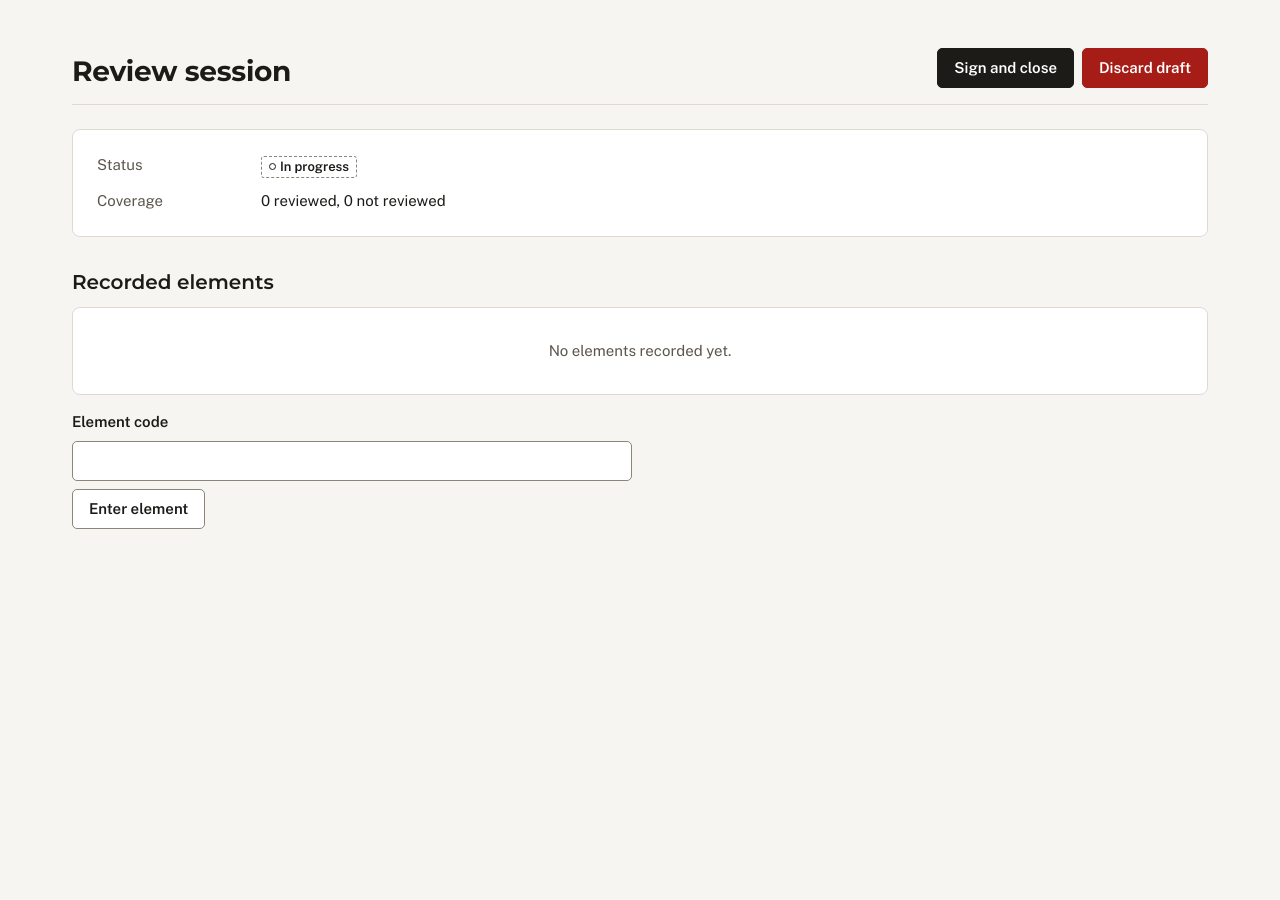
Test: ReviewSessionDetailPage › lists the offending element codes as links on UNREVIEWED_ELEMENTS_WITHOUT_REASON
This screenshot has width=1280, height=900.
What coordinates should you click on to do the following:
click the button with test id "review-session-detail-complete"
I would click on:
 (1006, 68)
Its box is [937,48,1074,88].
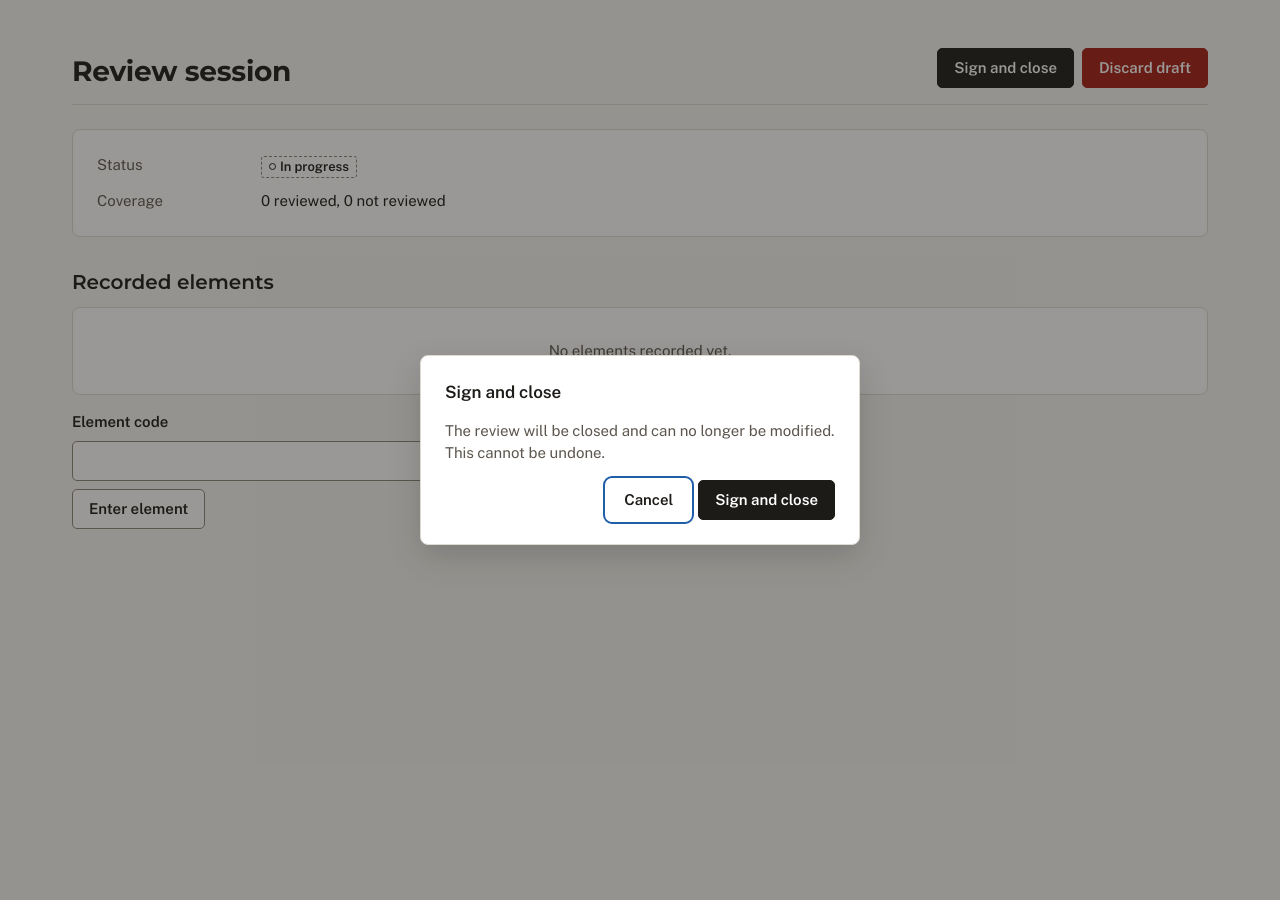
What coordinates should you click on to do the following:
click the button with test id "confirm-dialog-confirm"
I would click on:
 (767, 500)
Its box is [698,480,835,520].
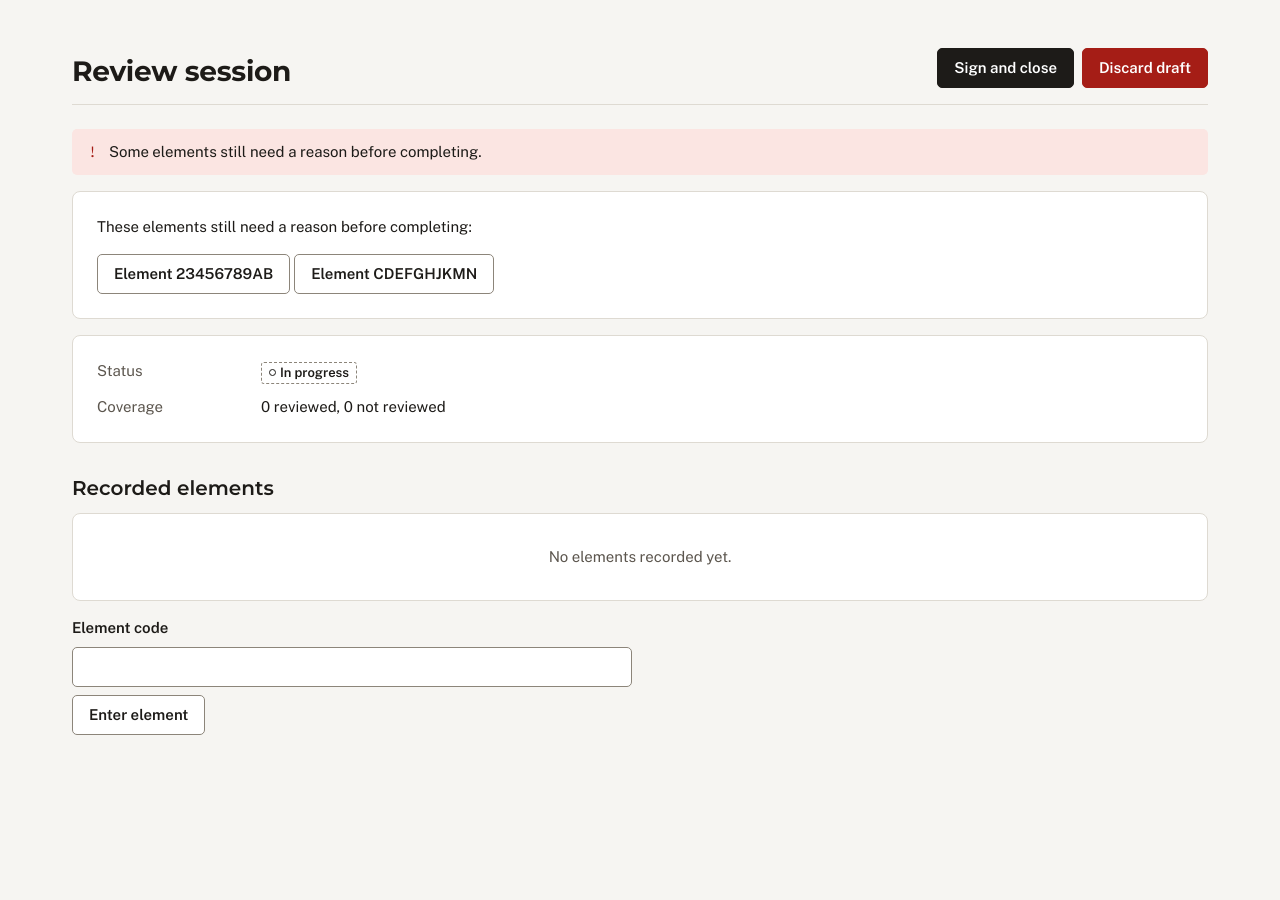
Result: the link with test id "review-session-detail-gap-link-CDEFGHJKMN" is shown at [294,254,494,294]
